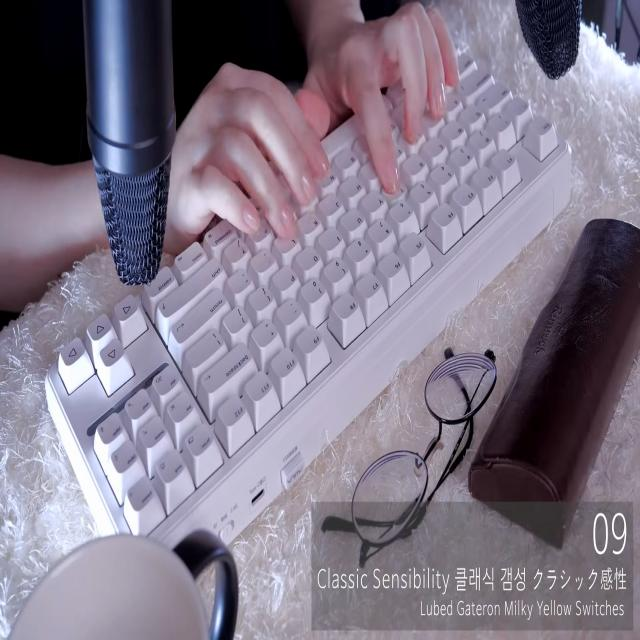keyboard-with-hands: (46, 40, 571, 541)
